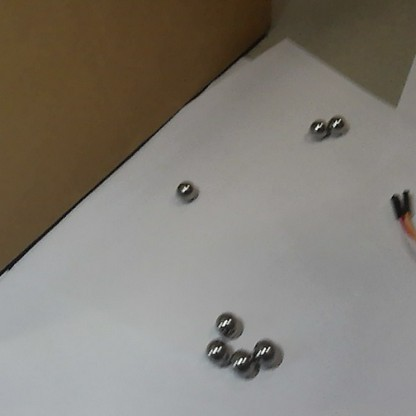ironball: (226, 346, 258, 382), (212, 307, 245, 339), (254, 335, 282, 371), (199, 337, 229, 369), (324, 110, 351, 138), (174, 178, 202, 205), (305, 116, 330, 138)
